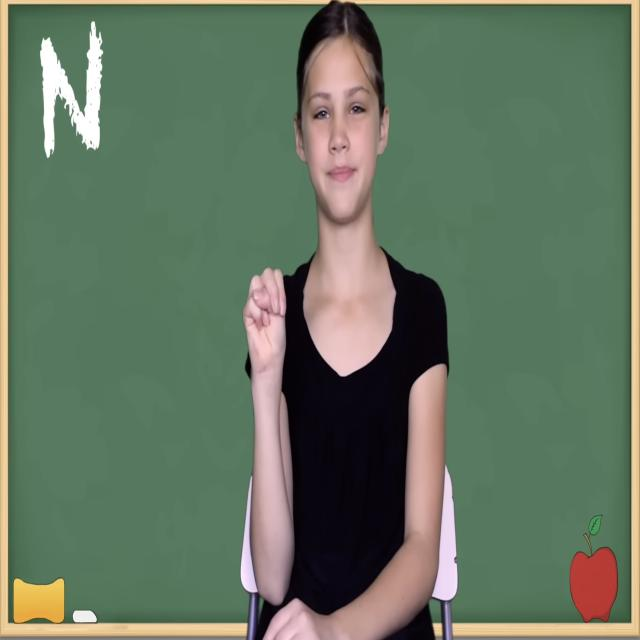N: (230, 262, 308, 403)
